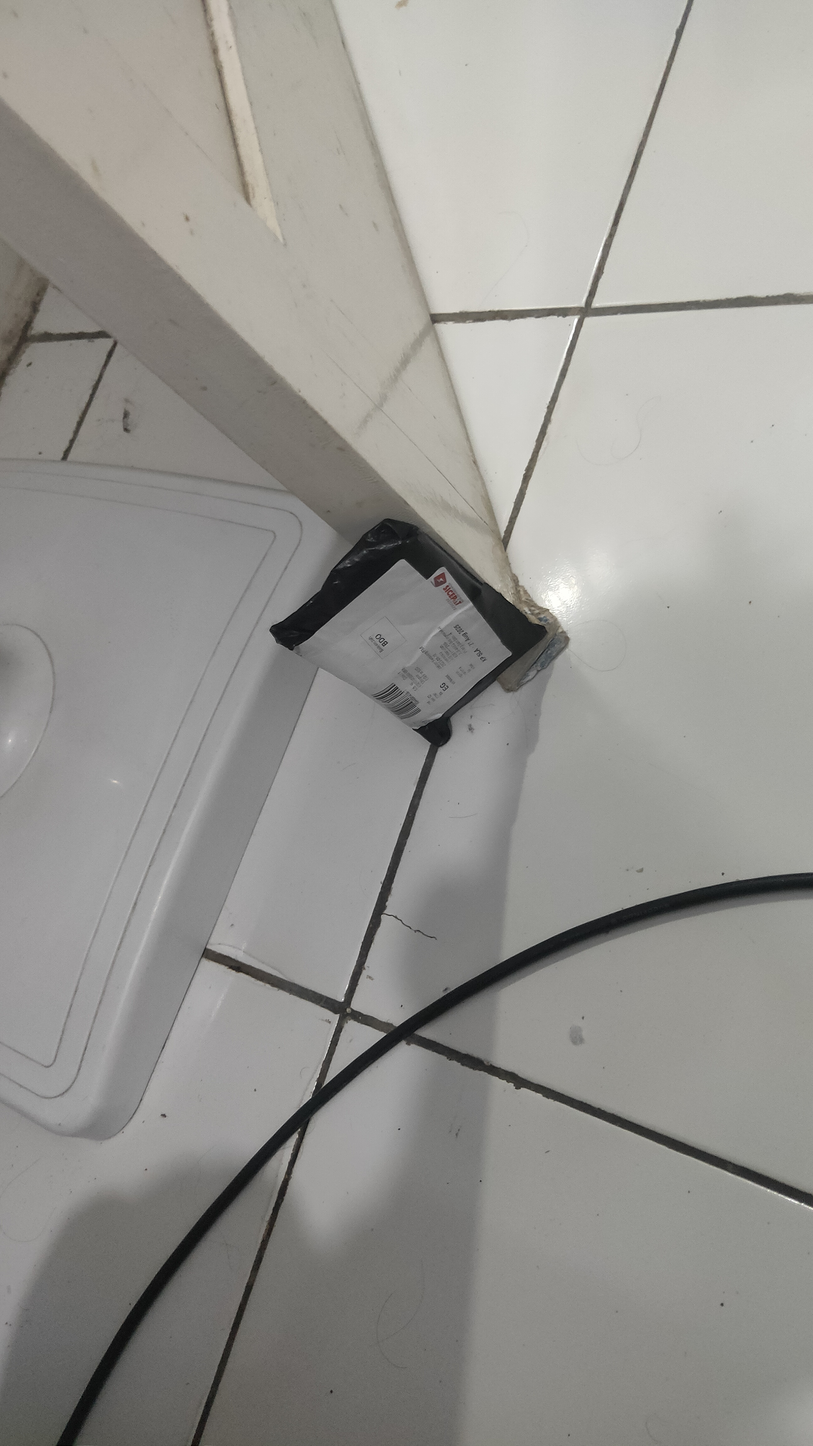undamaged: (274, 522, 541, 750)
